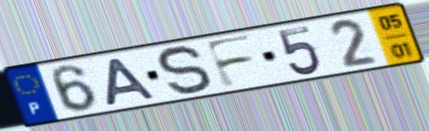2: (328, 17, 380, 69)
5: (275, 24, 323, 77)
6: (48, 61, 101, 115)
A: (103, 56, 159, 108)
F: (202, 32, 258, 91)
S: (155, 43, 215, 99)
